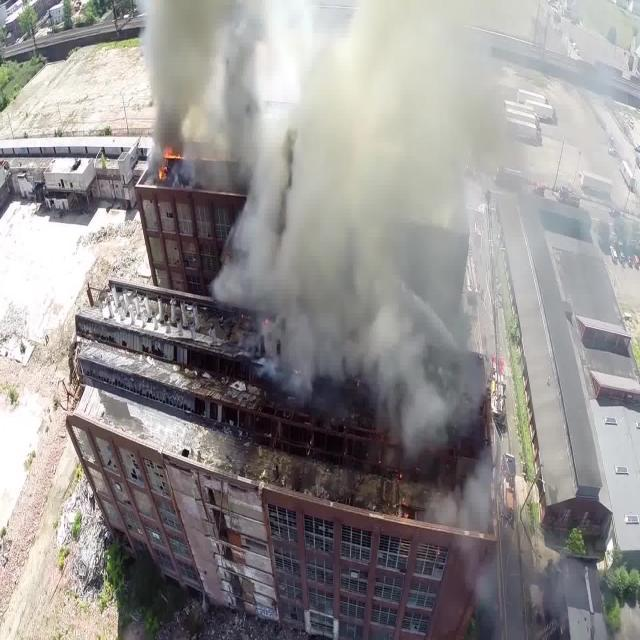Smoke: (138, 0, 512, 448), (438, 452, 540, 640)
